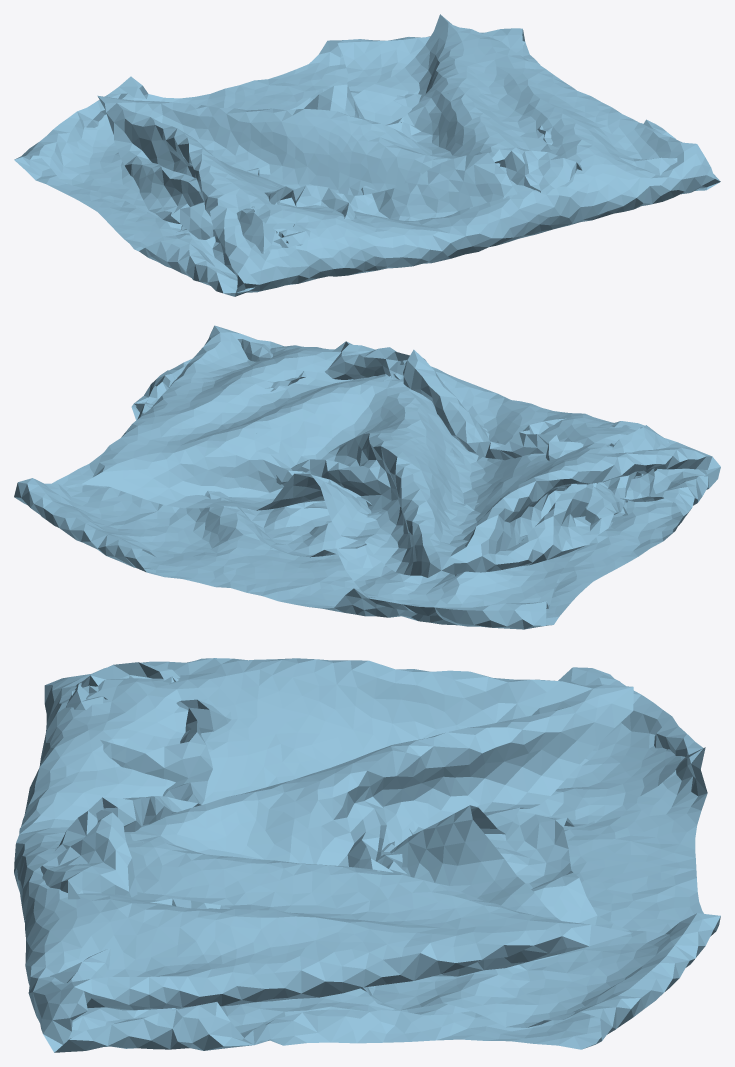
Rendered from frame_20.glb.
3 views of the same model, one above another, from view 1: azimuth 30°, elevation 25°; view 2: azimuth 150°, elevation 25°; view 3: azimuth 270°, elevation 25° (orthographic). The views are drawn at different scales.
Visible parts, largest first — view 1: frame_20.obj; view 2: frame_20.obj; view 3: frame_20.obj.
Part boxes in pixels (left/top/right/bottom): frame_20.obj: left=14, top=14, right=720, bottom=296; frame_20.obj: left=14, top=325, right=720, bottom=629; frame_20.obj: left=14, top=658, right=720, bottom=1052.
Size of the model in its own units: 1.25 by 0.1875 by 1.02.
